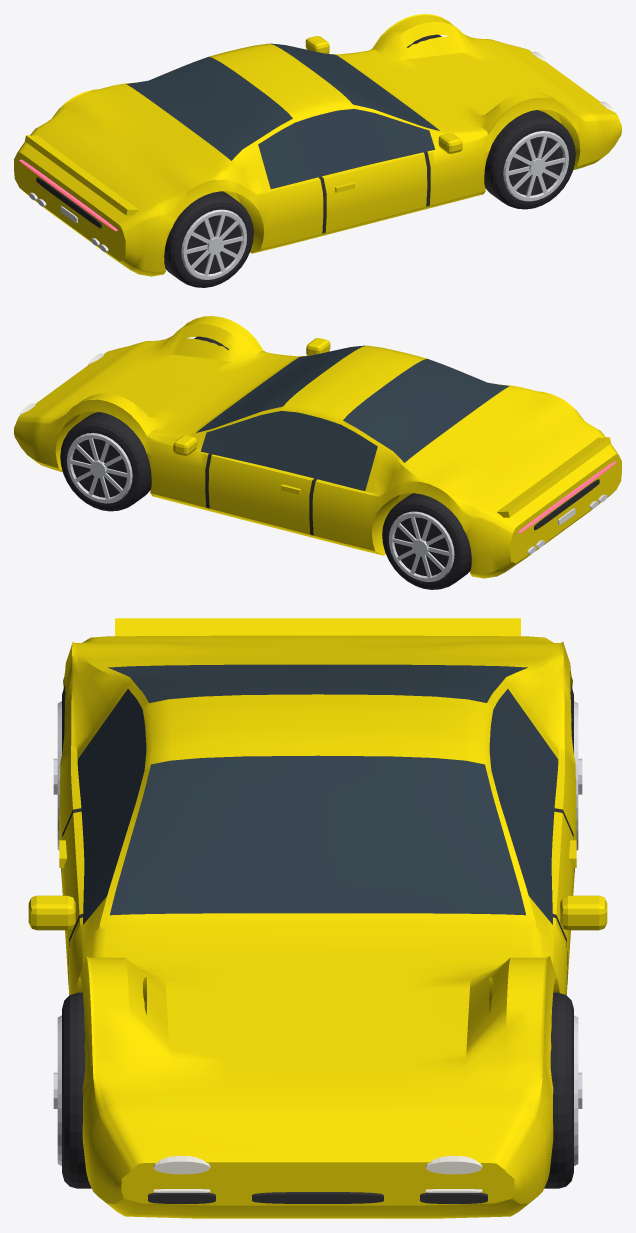
The model's file is porshe_911.fbx.
3 renders of one model, top to bottom at view 1: azimuth 30°, elevation 25°; view 2: azimuth 150°, elevation 25°; view 3: azimuth 270°, elevation 25°, orthographic. The views are drawn at different scales.
Parts seen in each view (by area): view 1: Body.031, Glass.031, Tire.031, Rim.031, Trim.031, TailLight.031; view 2: Body.031, Glass.031, Tire.031, Rim.031, Trim.031, TailLight.031; view 3: Body.031, Glass.031, Tire.031, Trim.031, Rim.031, HeadLight.031.
Part boxes in pixels (<box>): Body.031: <box>14,14,621,276</box>; Glass.031: <box>126,43,439,188</box>; Tire.031: <box>164,34,575,287</box>; Rim.031: <box>181,131,568,279</box>; Trim.031: <box>36,139,563,273</box>; TailLight.031: <box>19,159,117,231</box>; Body.031: <box>14,316,621,578</box>; Glass.031: <box>196,345,509,490</box>; Tire.031: <box>60,336,471,589</box>; Rim.031: <box>67,433,454,581</box>; Trim.031: <box>74,439,599,576</box>; TailLight.031: <box>518,461,616,533</box>; Body.031: <box>28,618,607,1218</box>; Glass.031: <box>77,664,558,924</box>; Tire.031: <box>62,685,573,1188</box>; Trim.031: <box>61,808,574,1203</box>; Rim.031: <box>53,701,582,1166</box>; HeadLight.031: <box>153,1156,482,1192</box>.
Size of the model in its own units: 1494 by 382 by 737.
